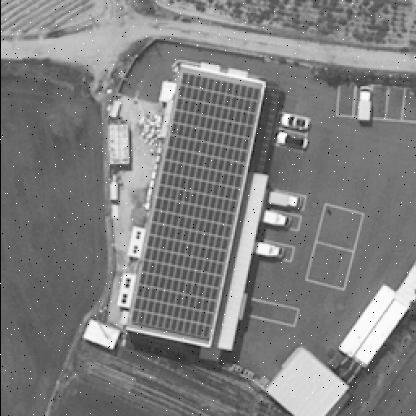solar-pv-panel: (131, 72, 259, 341)
